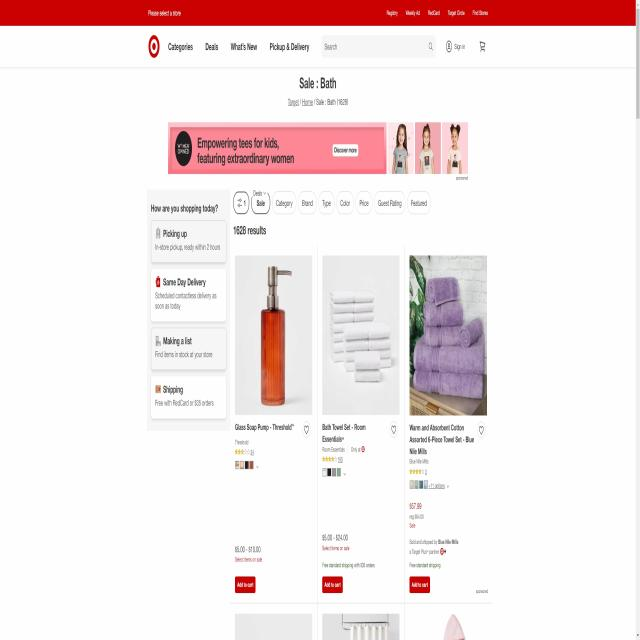menu-bar: (443, 36, 489, 58)
search: (320, 33, 438, 62)
side-panel: (145, 186, 229, 427)
tab-bar: (144, 36, 310, 61)
